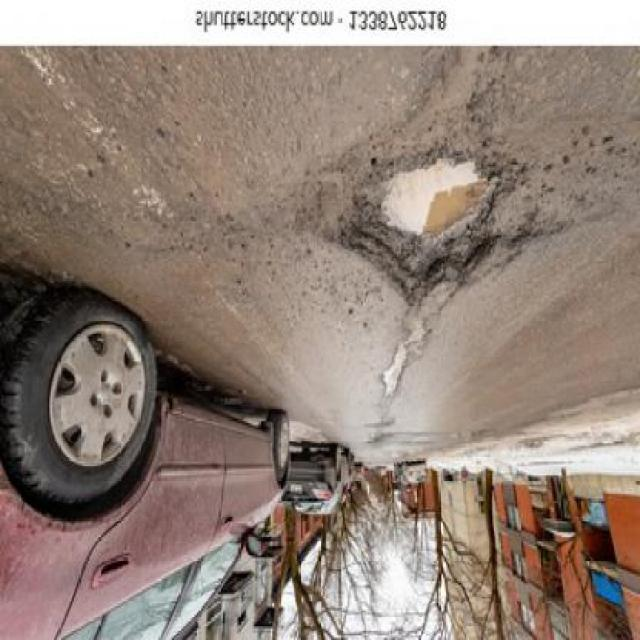Pothole: (324, 105, 539, 303)
